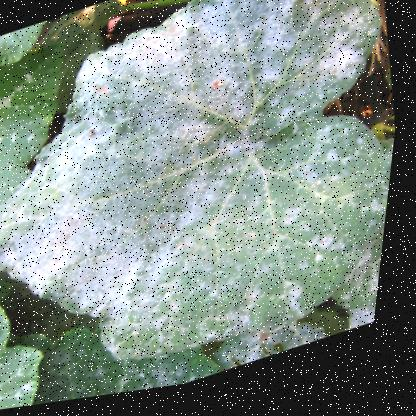PowderyMildew: (63, 132, 275, 389), (188, 125, 400, 349), (35, 19, 268, 219), (174, 0, 373, 160), (11, 133, 200, 283)
